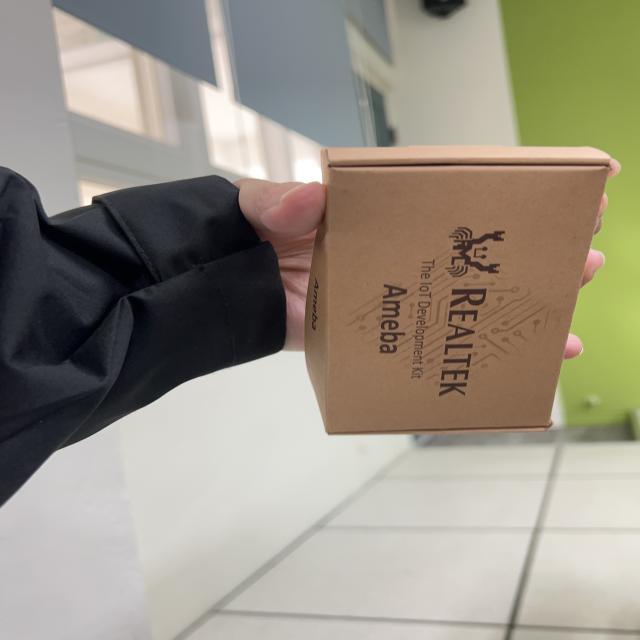box: (298, 126, 628, 444)
